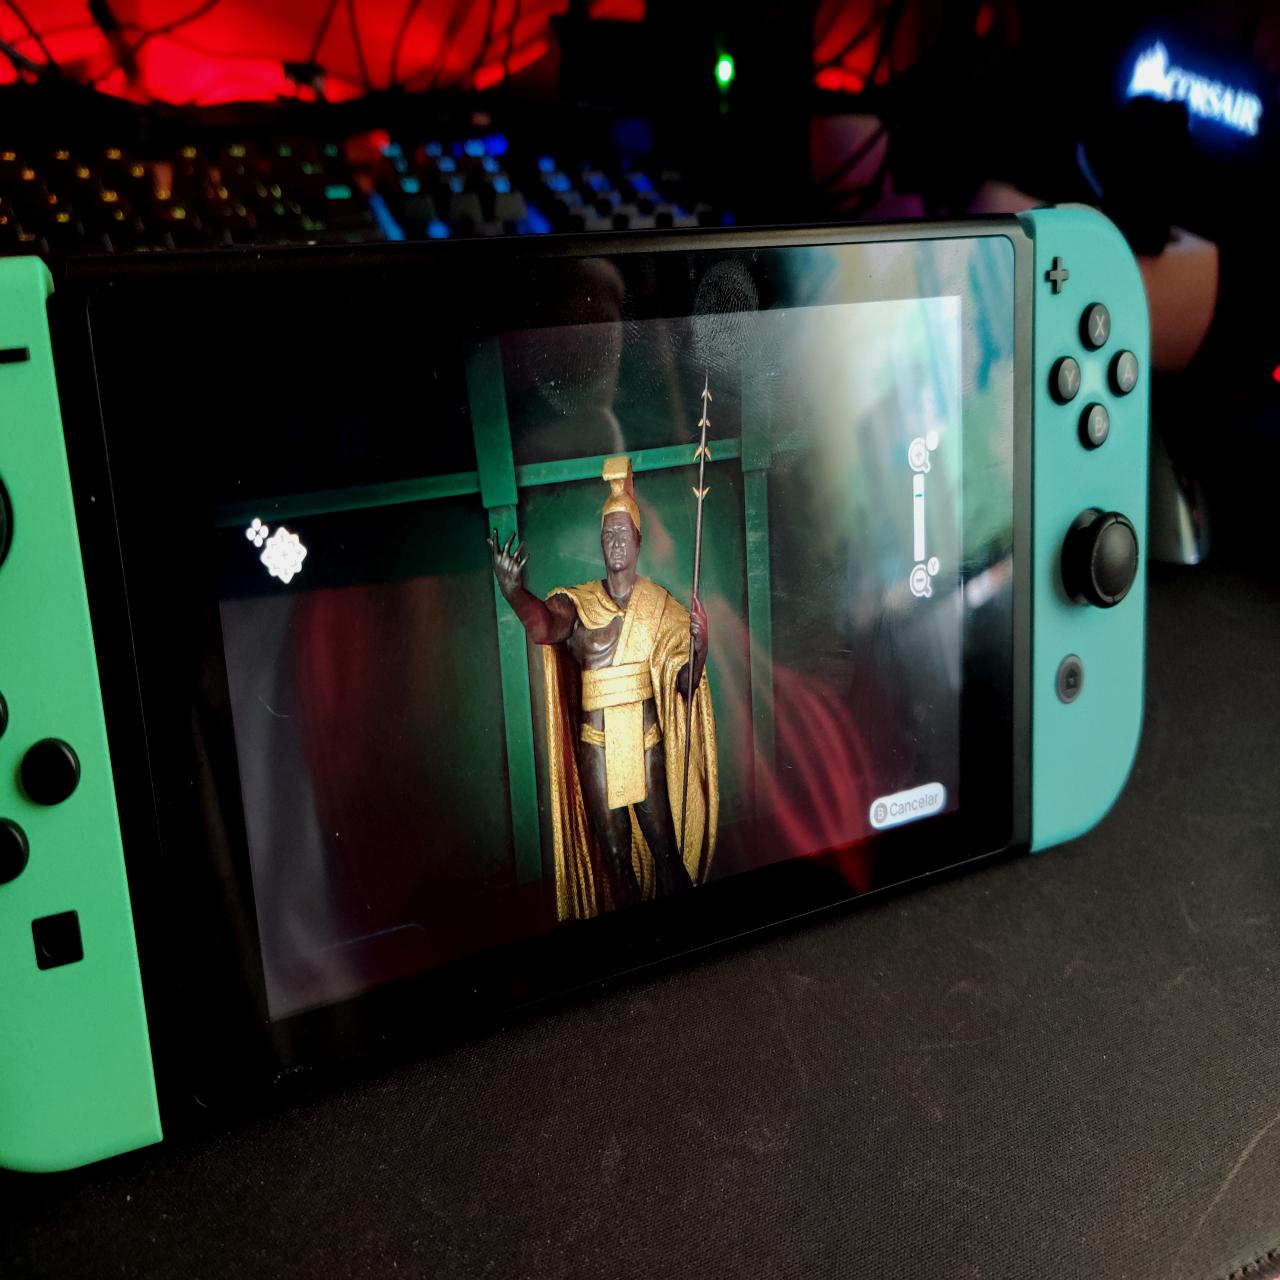Kamehameha: (486, 355, 729, 933)
